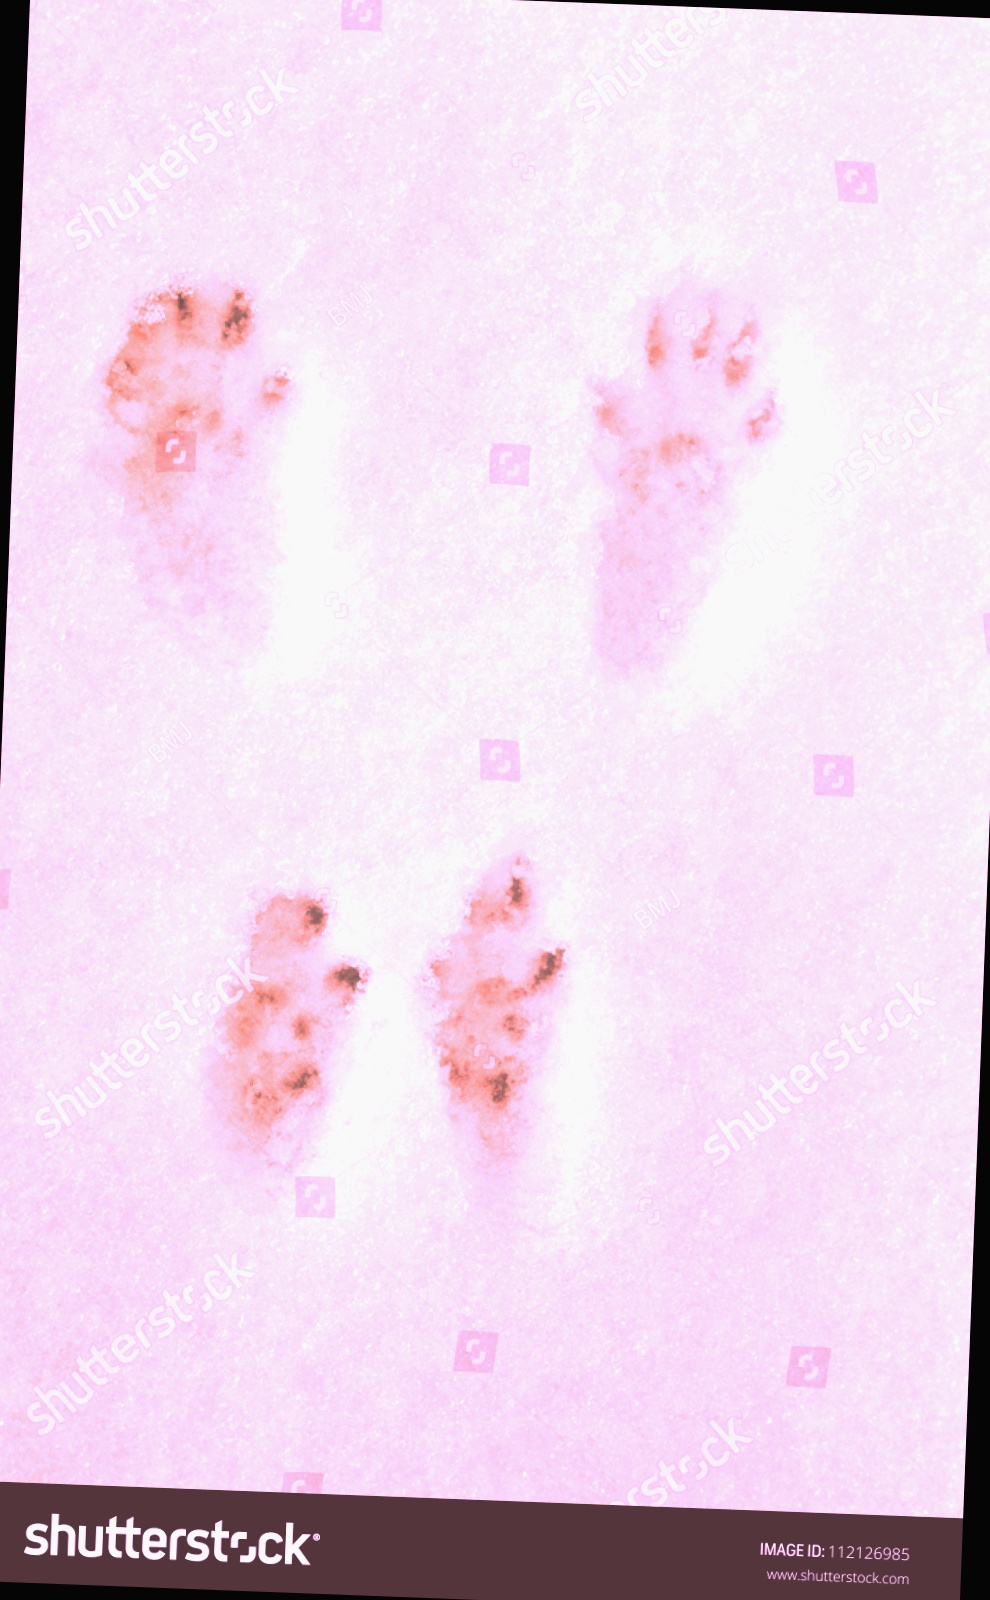ecureuil: (513, 231, 827, 709), (62, 251, 344, 695), (388, 810, 621, 1235), (162, 838, 383, 1221)
